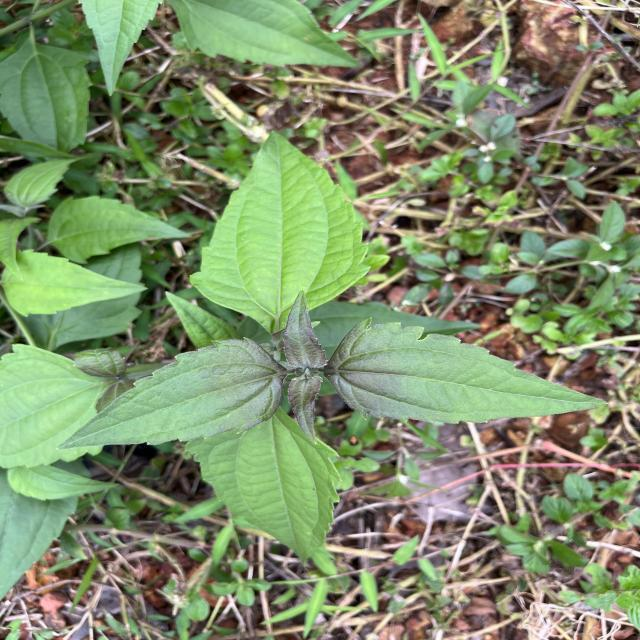Chromolaena odorata: (322, 313, 614, 429), (52, 333, 288, 453)
